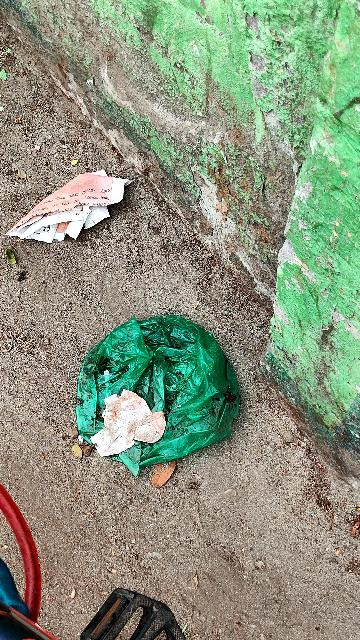polythene: (86, 308, 236, 454)
